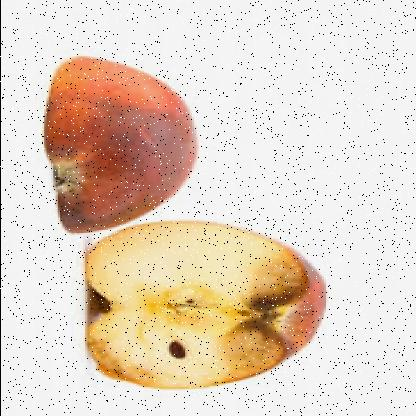damaged_apple: (88, 224, 316, 390), (46, 56, 200, 233)
